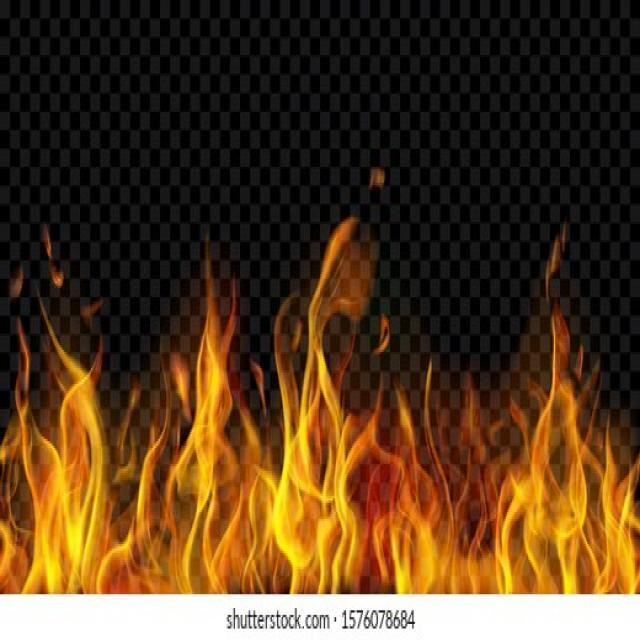fire: (5, 137, 640, 640)
